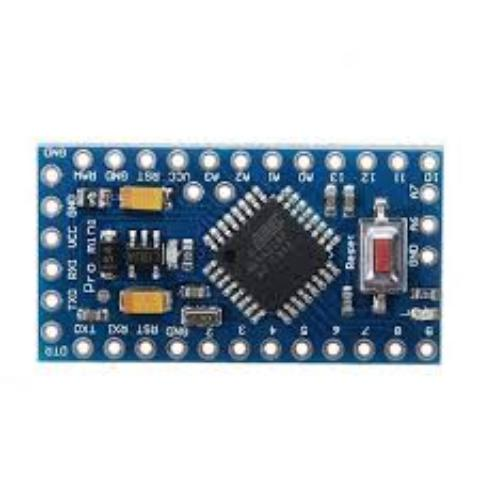Arduino-Pro-Mini: (28, 112, 450, 382)
